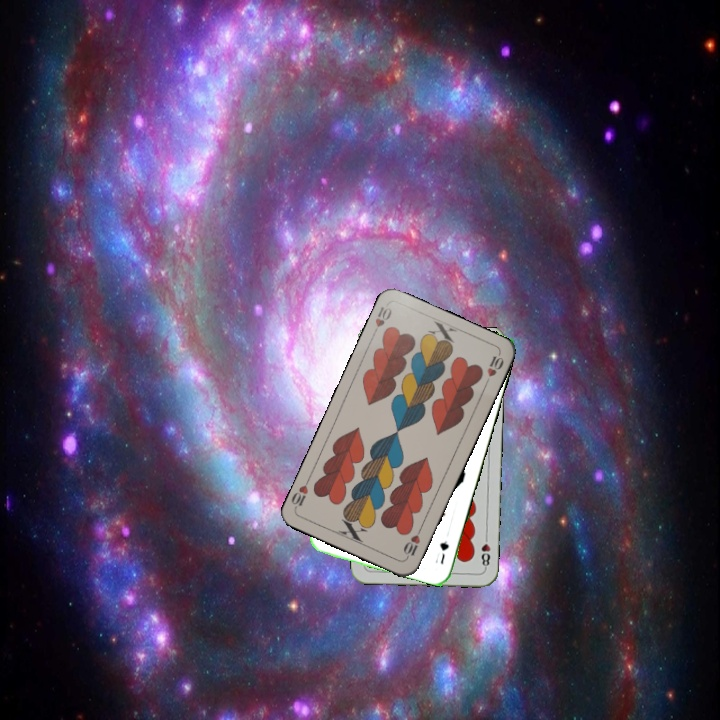GU: (436, 537, 451, 567)
H10: (399, 523, 425, 561), (368, 303, 395, 339)
H8: (477, 531, 493, 571)
